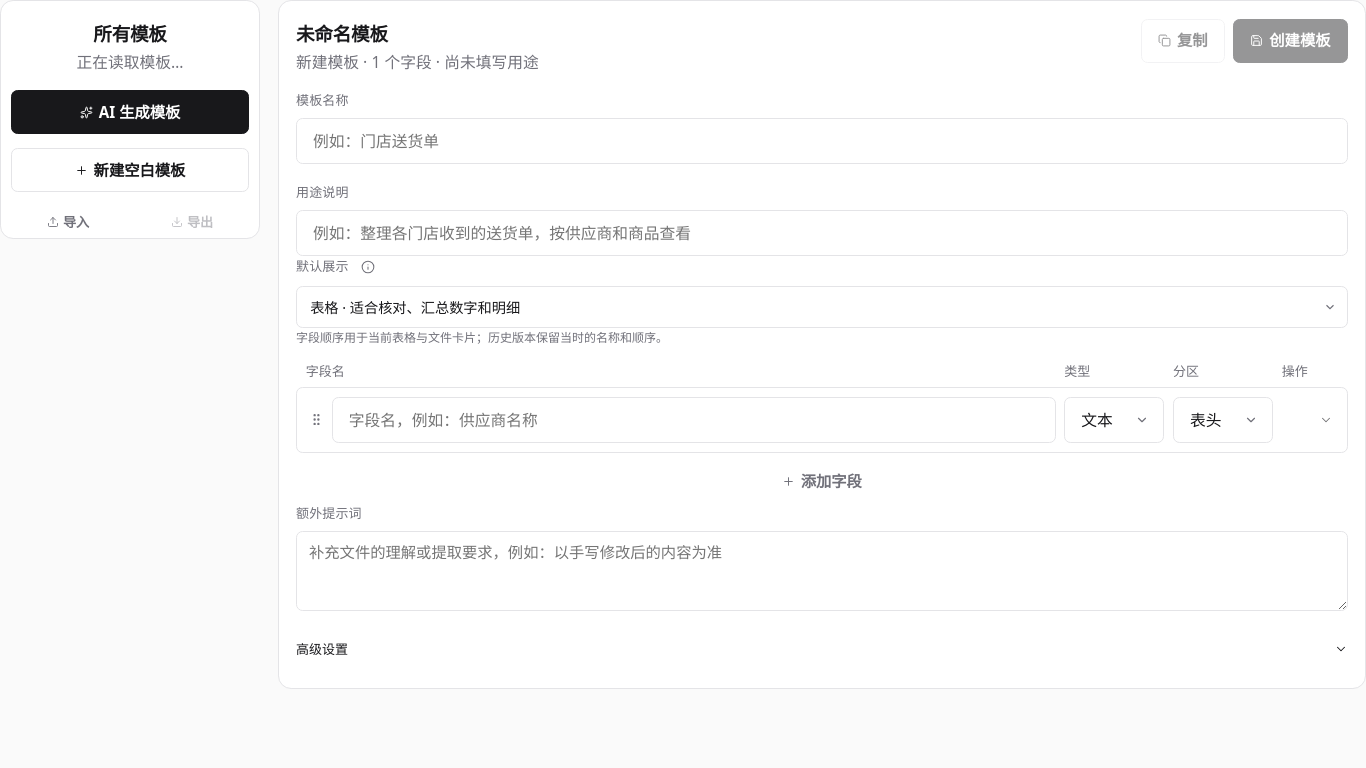
Test: template catalog read boundaries › a late initial read preserves an explicit new draft (edited=true) without asking to discard
This screenshot has width=1366, height=768.
Click the button "新建空白模板" at (130, 170), box x1=11 y1=148 x2=249 y2=192
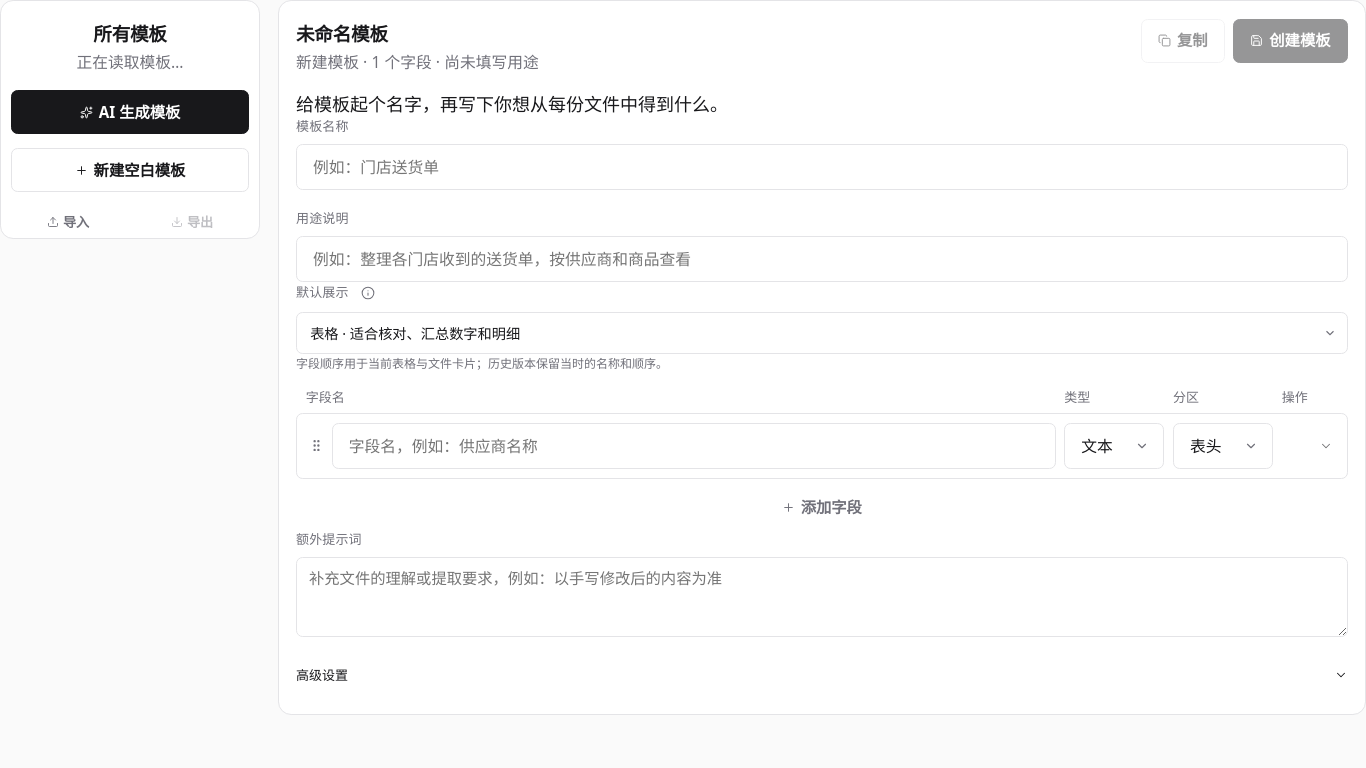
Expected: the button "复制" is disabled, x1=1141 y1=18 x2=1224 y2=62
Type "先写下的草稿" into the field labelled "用途说明" at (822, 259), box x1=296 y1=236 x2=1348 y2=282
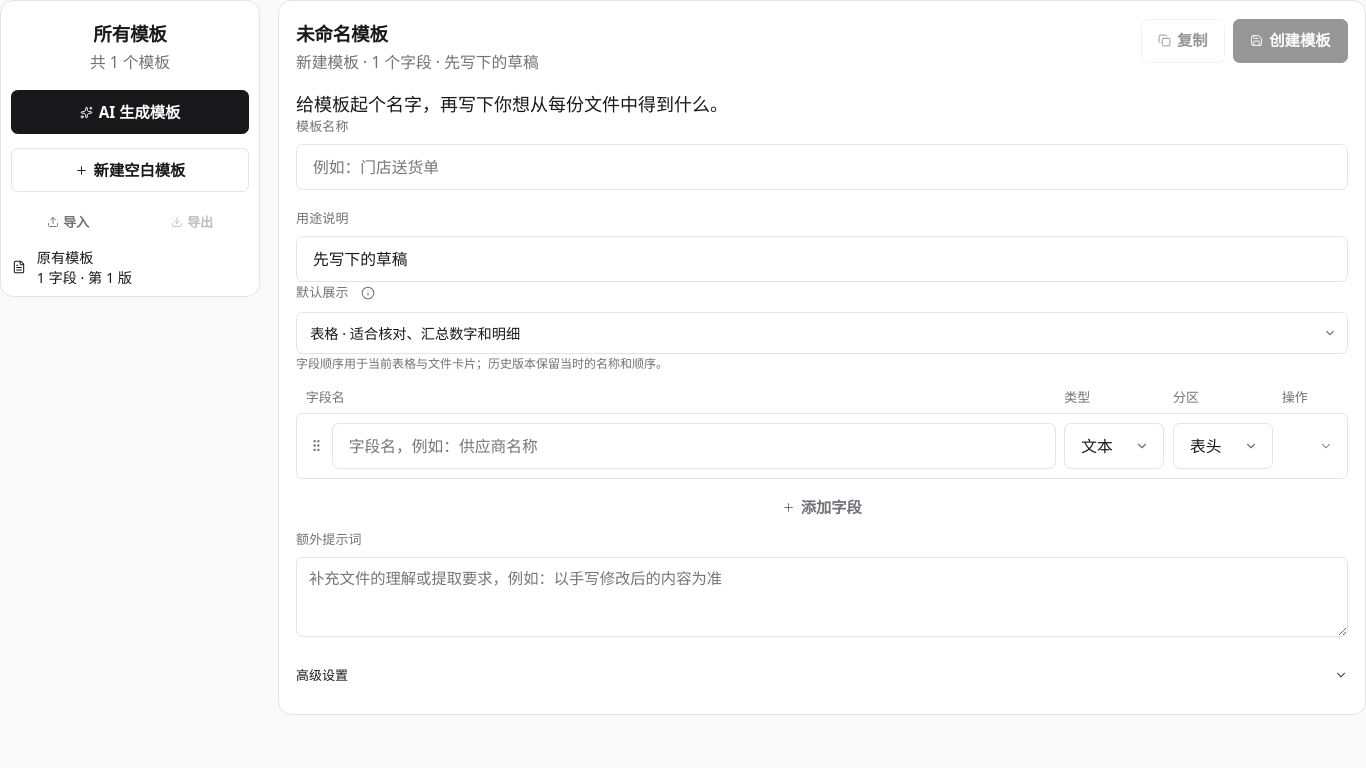
Expected: the heading "未命名模板" is shown, x1=296 y1=20 x2=388 y2=46
Now the text "原有模板" is shown, box x1=37 y1=248 x2=94 y2=267
